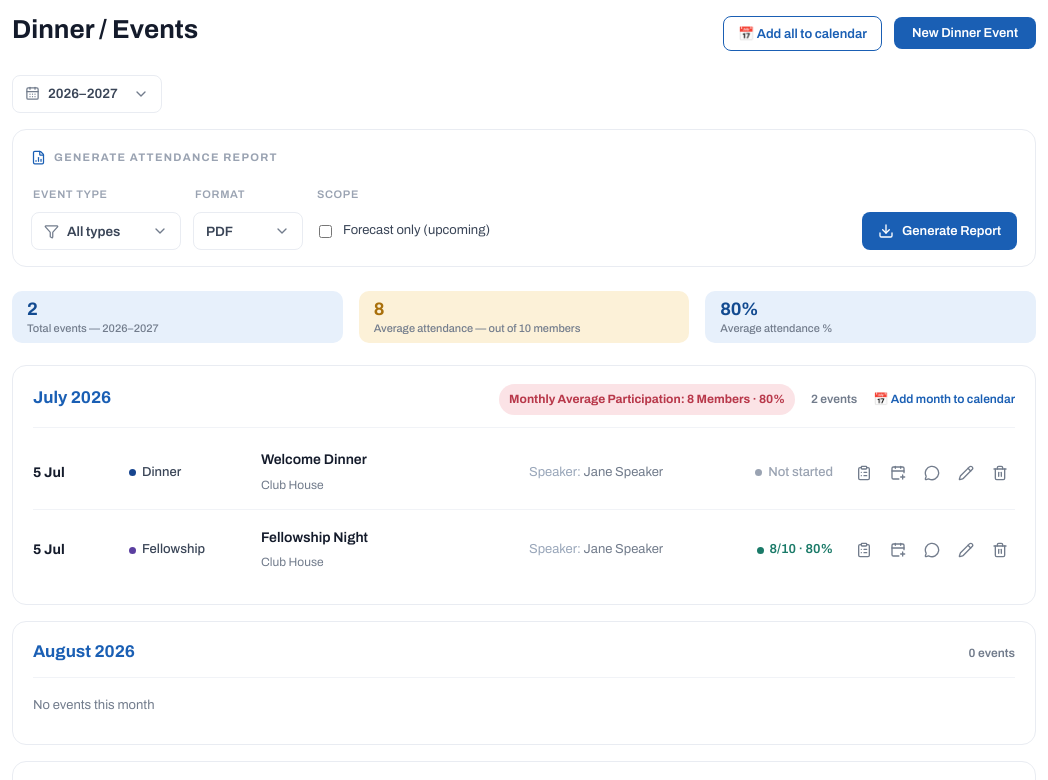
DinnerEvents — Minimal design › switches the rotary year via the year dropdown (single-select, closes on pick)
Click the button named "Switch rotary year" at (87,94), box x1=12 y1=75 x2=162 y2=113
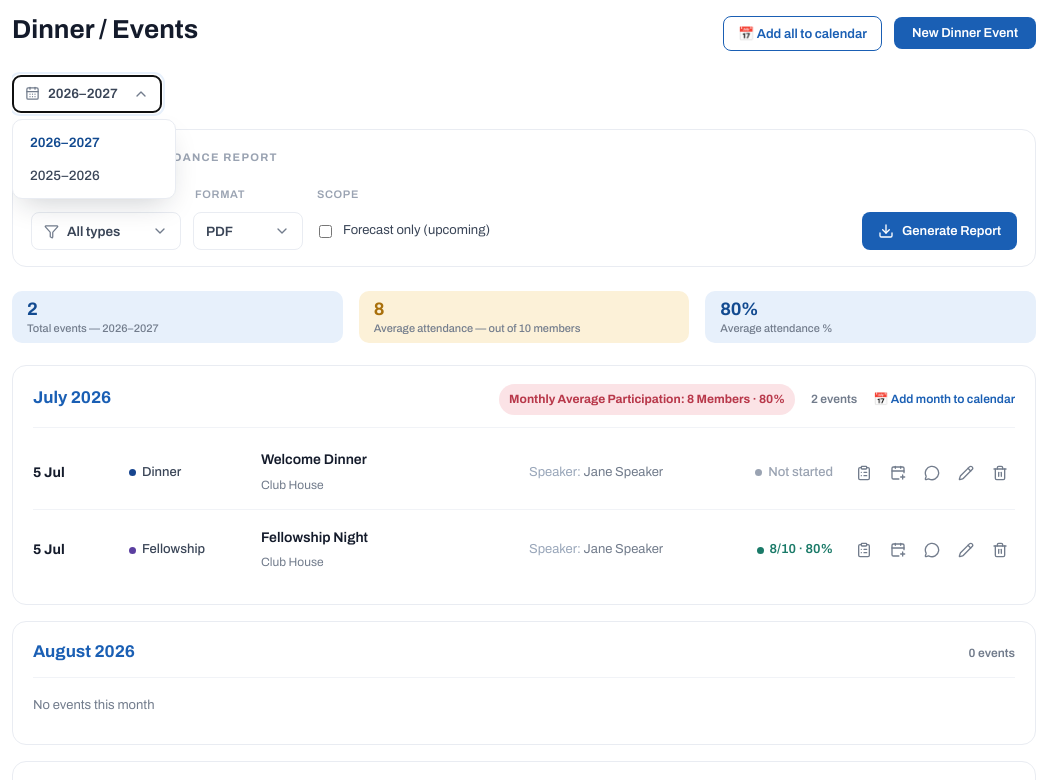
Click the option "2025–2026" at (94,175), box x1=19 y1=159 x2=169 y2=192
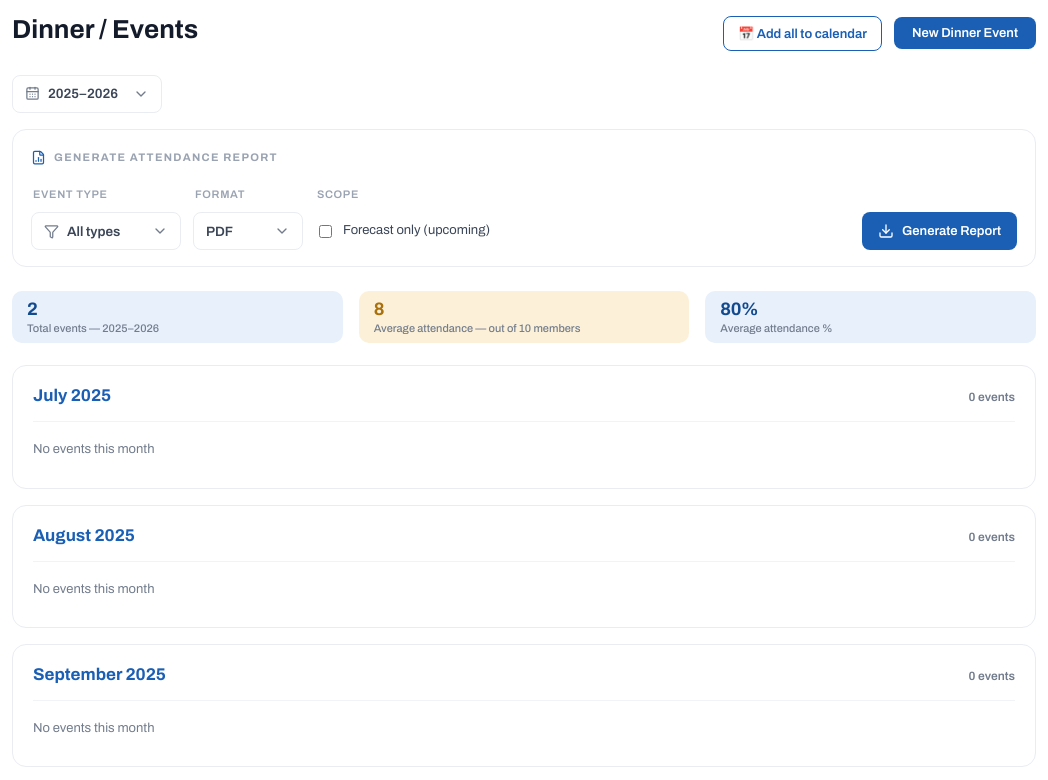
Expected: the list is gone
Expected: the button named "Switch rotary year" reads "2025–2026", x1=12 y1=75 x2=162 y2=113
